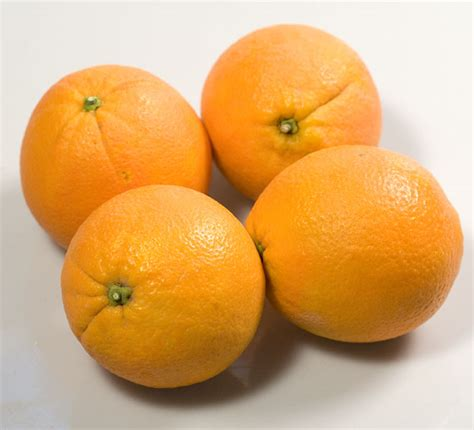orange: (238, 144, 469, 350), (56, 180, 269, 390), (16, 62, 216, 245), (200, 23, 382, 187)
